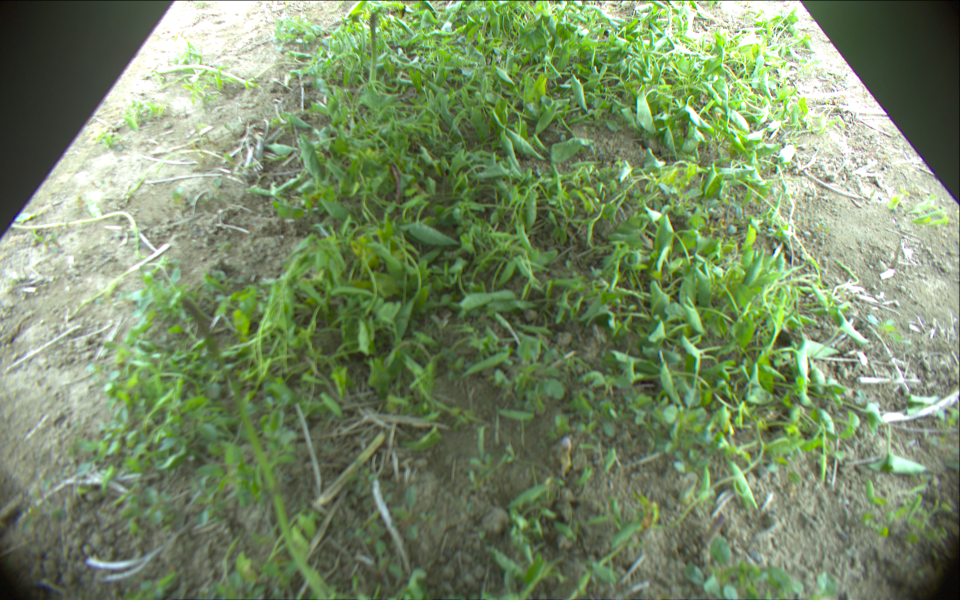aspa: (181, 298, 333, 600), (142, 64, 260, 89), (367, 13, 378, 86)
